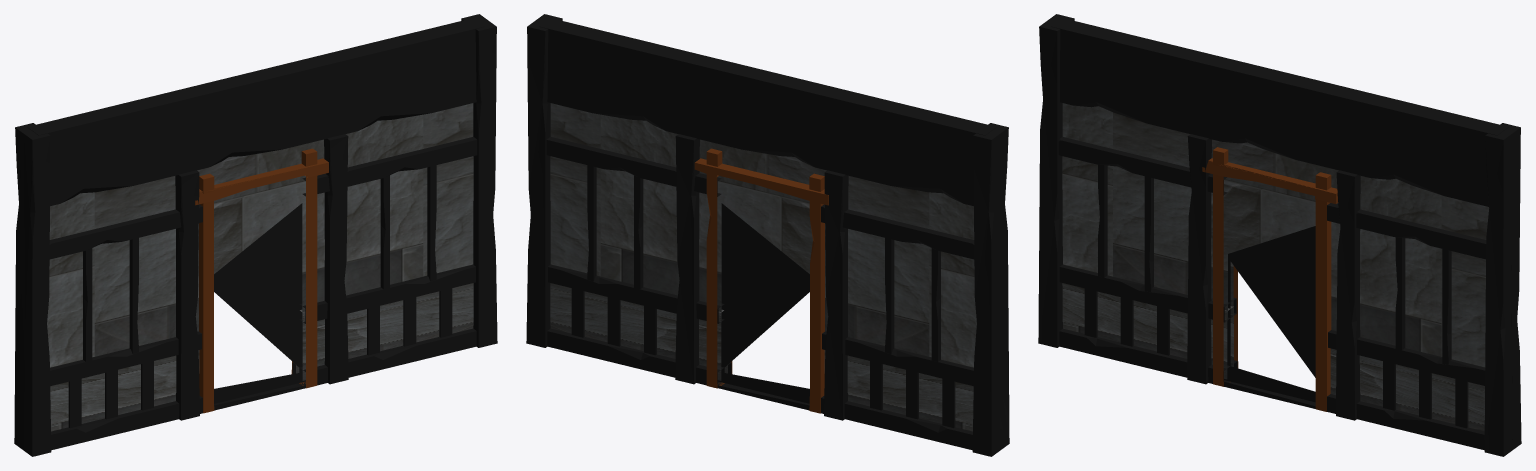
File: door_frame.obj
3 views of the same model, side by side, from view 1: azimuth 30°, elevation 25°; view 2: azimuth 150°, elevation 25°; view 3: azimuth 330°, elevation 25° (orthographic).
Visible parts, largest first — view 1: door; view 2: door; view 3: door.
Part boxes in pixels (box(x1,y1,x2,y2)): door: box(14, 14, 497, 456); door: box(526, 14, 1009, 456); door: box(1038, 14, 1521, 456).
Size of the model in its own units: 5 by 3.26 by 0.3346.
3 materials, 1 textured.
